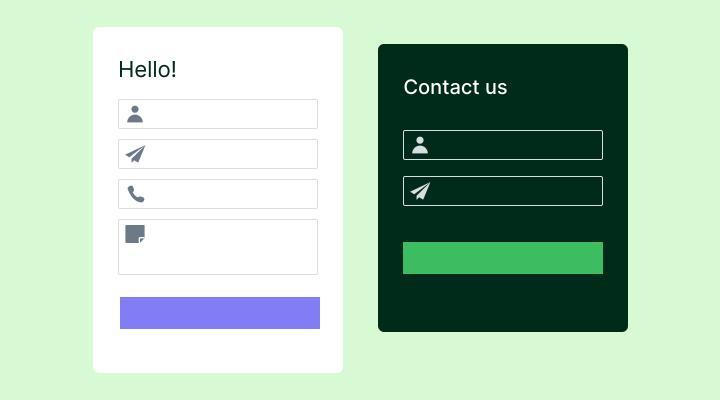button: (120, 297, 323, 330), (405, 244, 605, 274)
icon: (126, 143, 148, 166), (126, 183, 149, 205), (412, 181, 433, 204), (128, 103, 146, 125), (413, 135, 430, 154)
input: (120, 138, 319, 170), (404, 176, 603, 208), (120, 179, 320, 210), (119, 100, 320, 129), (403, 132, 604, 160)
label: (405, 78, 509, 97), (118, 61, 181, 81)
